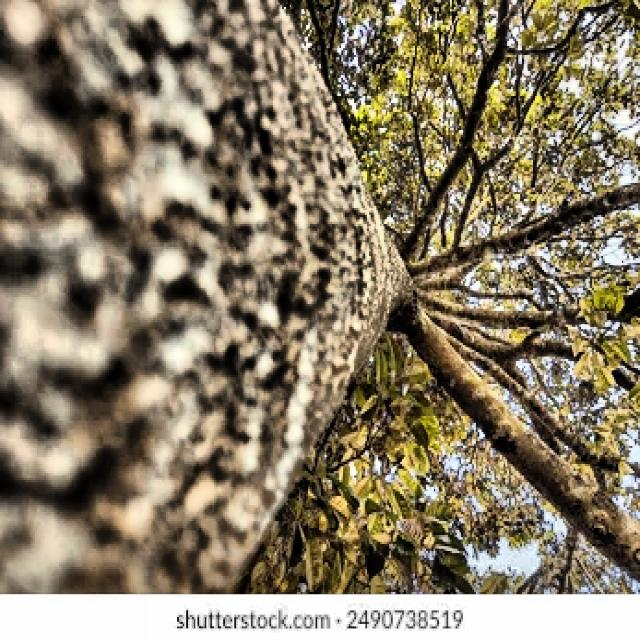arvore: (2, 0, 413, 590)
